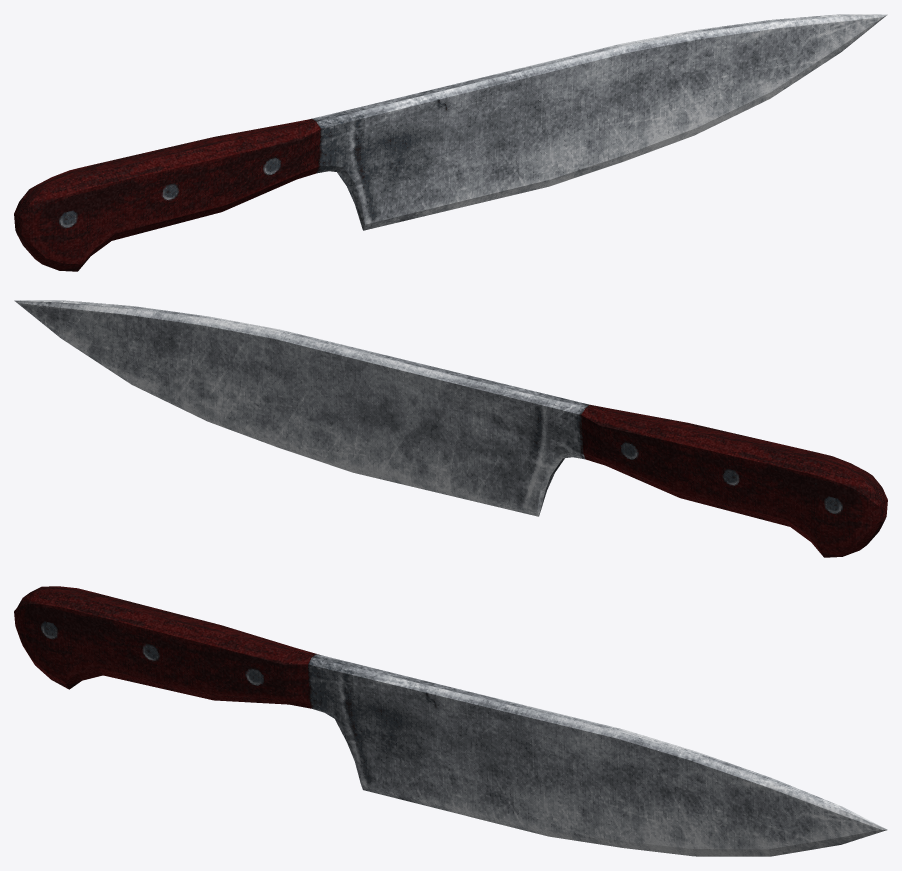
The model's file is knife.fbx.
3 renders of one model, top to bottom at view 1: azimuth 30°, elevation 25°; view 2: azimuth 150°, elevation 25°; view 3: azimuth 330°, elevation 25°, orthographic.
Visible parts, largest first — view 1: Kitchen_Knife; view 2: Kitchen_Knife; view 3: Kitchen_Knife.
Part boxes in pixels (bbox=[...]): Kitchen_Knife: bbox=[14, 14, 887, 271]; Kitchen_Knife: bbox=[14, 300, 887, 557]; Kitchen_Knife: bbox=[14, 586, 887, 856].
Bounding box in the file's own units: 3085 × 439 × 133.
